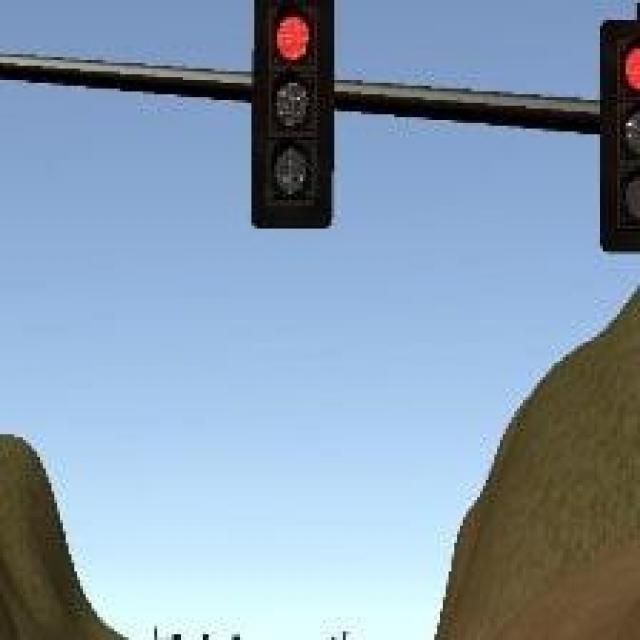red_light: (260, 3, 332, 228), (600, 17, 640, 248)
